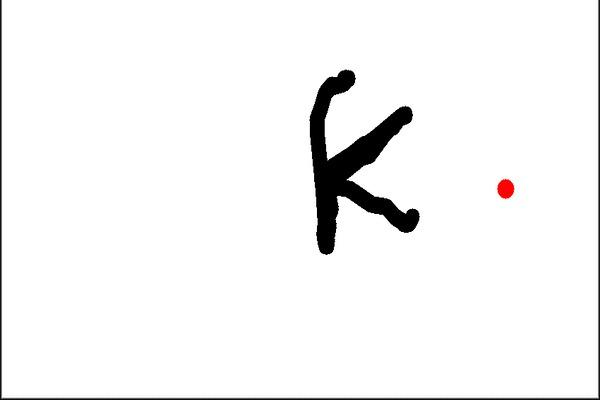K: (304, 64, 429, 258)
